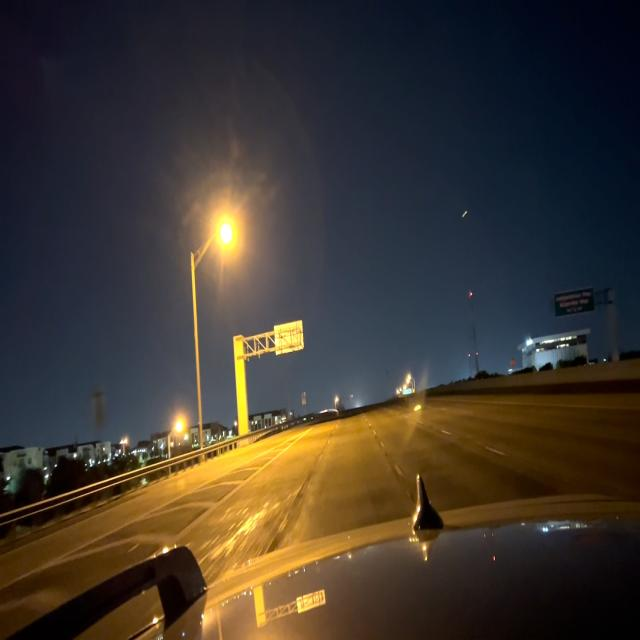back-of-sign: (272, 319, 304, 359)
